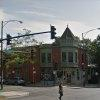Traffic light: (42, 18, 66, 48)
